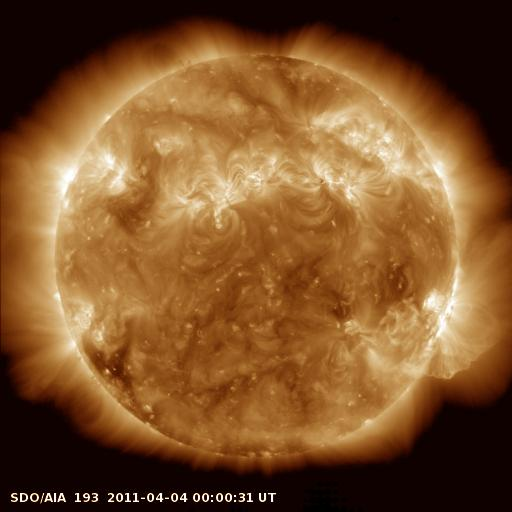coronal_hole: (75, 331, 140, 407)
